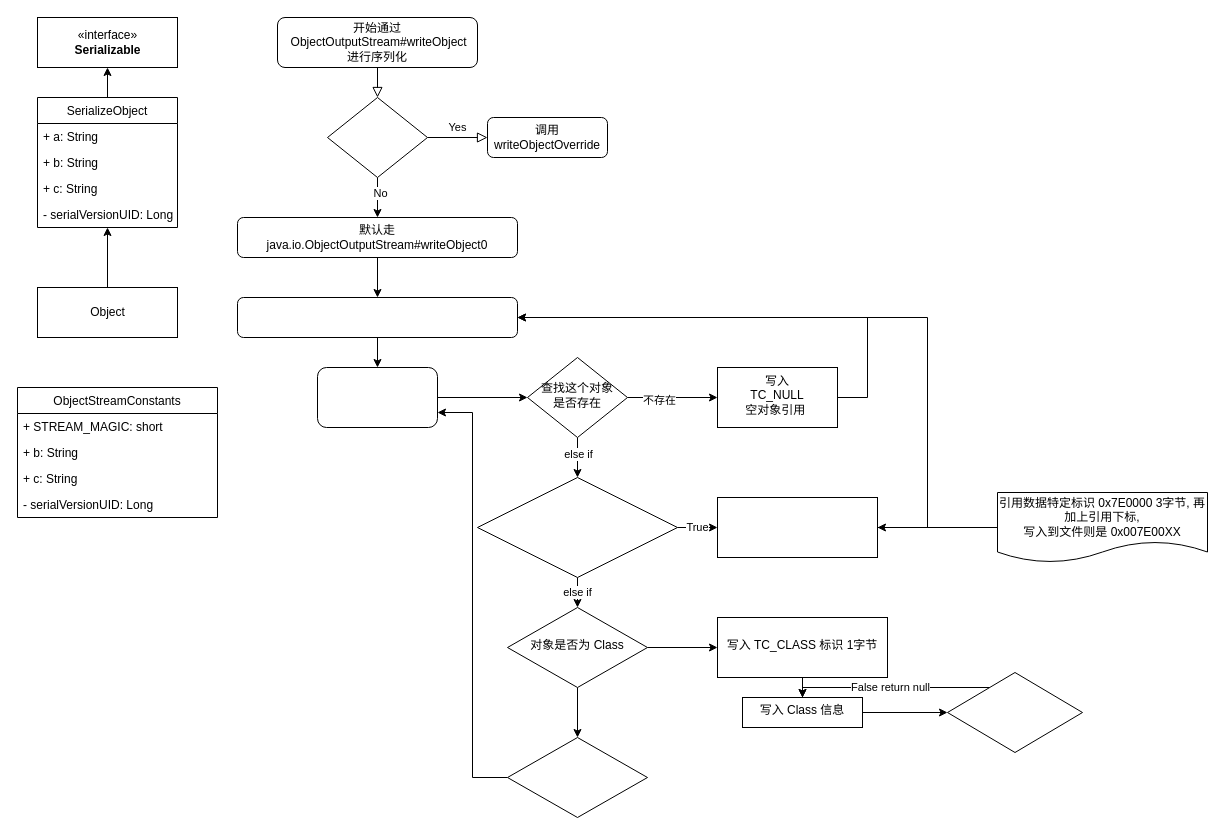
The diagram is 1225 pixels wide and 835 high, and some of its shapes have lost their labels. Each missing label, with the centre of its shape:
unshared 为 false 且 查找对象的数据存在handles: point (577, 527)
写入 TC_REFERENCE 1字节 引用数据 4字节: point (797, 527)
判断: point (377, 397)
判断是否存在 Serializable 接口: point (1014, 712)
对象是否是 ObjectStreamClass: point (577, 777)
是否开启 方法覆盖: point (377, 137)
设置非块写入, 并将存在缓冲区的数据写入到文件.: point (377, 317)
